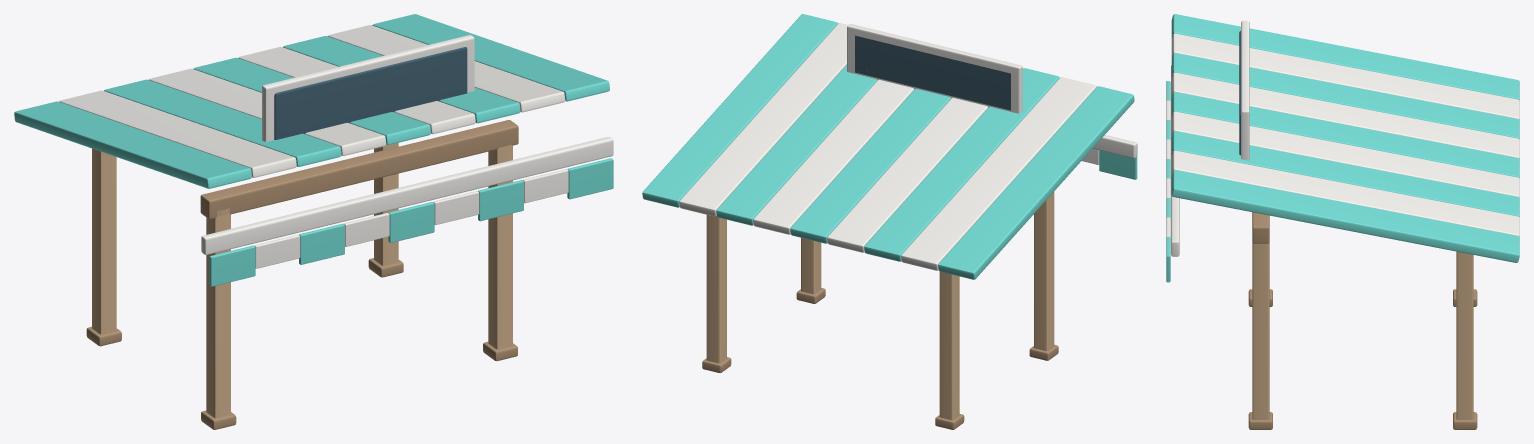
Rendered from KioskTeal.fbx.
The picture shows the model from 3 angles, left to right: view 1: azimuth 30°, elevation 25°; view 2: azimuth 150°, elevation 25°; view 3: azimuth 270°, elevation 25°; orthographic projection. The views are drawn at different scales.
Parts seen in each view (by area): view 1: KioskTeal; view 2: KioskTeal; view 3: KioskTeal.
Part boxes in pixels (x1,y1,x2,y2): KioskTeal: (14, 14, 613, 429); KioskTeal: (642, 14, 1137, 429); KioskTeal: (1166, 14, 1519, 429).
Bounding box in the file's own units: 4.88 × 3.81 × 4.09.
